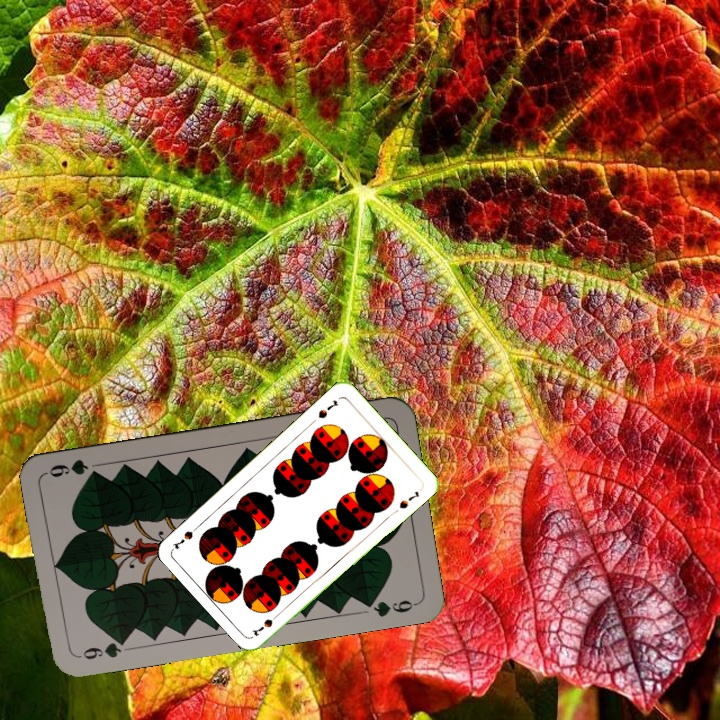G9: (73, 634, 130, 662)
S7: (248, 608, 283, 639), (314, 396, 342, 421)
